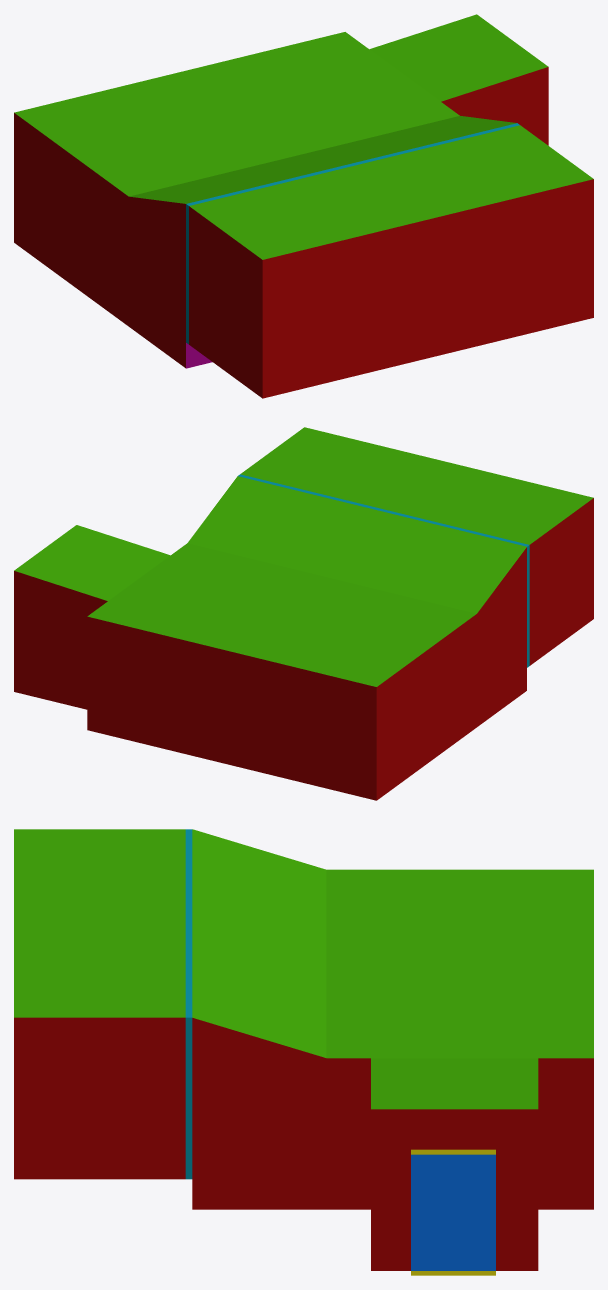
The model's file is Room_V1.1.fbx.
3 views of the same model, one above another, from view 1: azimuth 30°, elevation 25°; view 2: azimuth 150°, elevation 25°; view 3: azimuth 270°, elevation 25° (orthographic). The views are drawn at different scales.
Visible parts, largest first — view 1: pCube10; view 2: pCube10; view 3: pCube10.
Boxes of the visible parts, <box> form: pCube10: <box>14,14,593,398</box>; pCube10: <box>14,427,593,800</box>; pCube10: <box>14,829,593,1275</box>.
Bounding box in the file's own units: 1350 × 475 × 1300.
